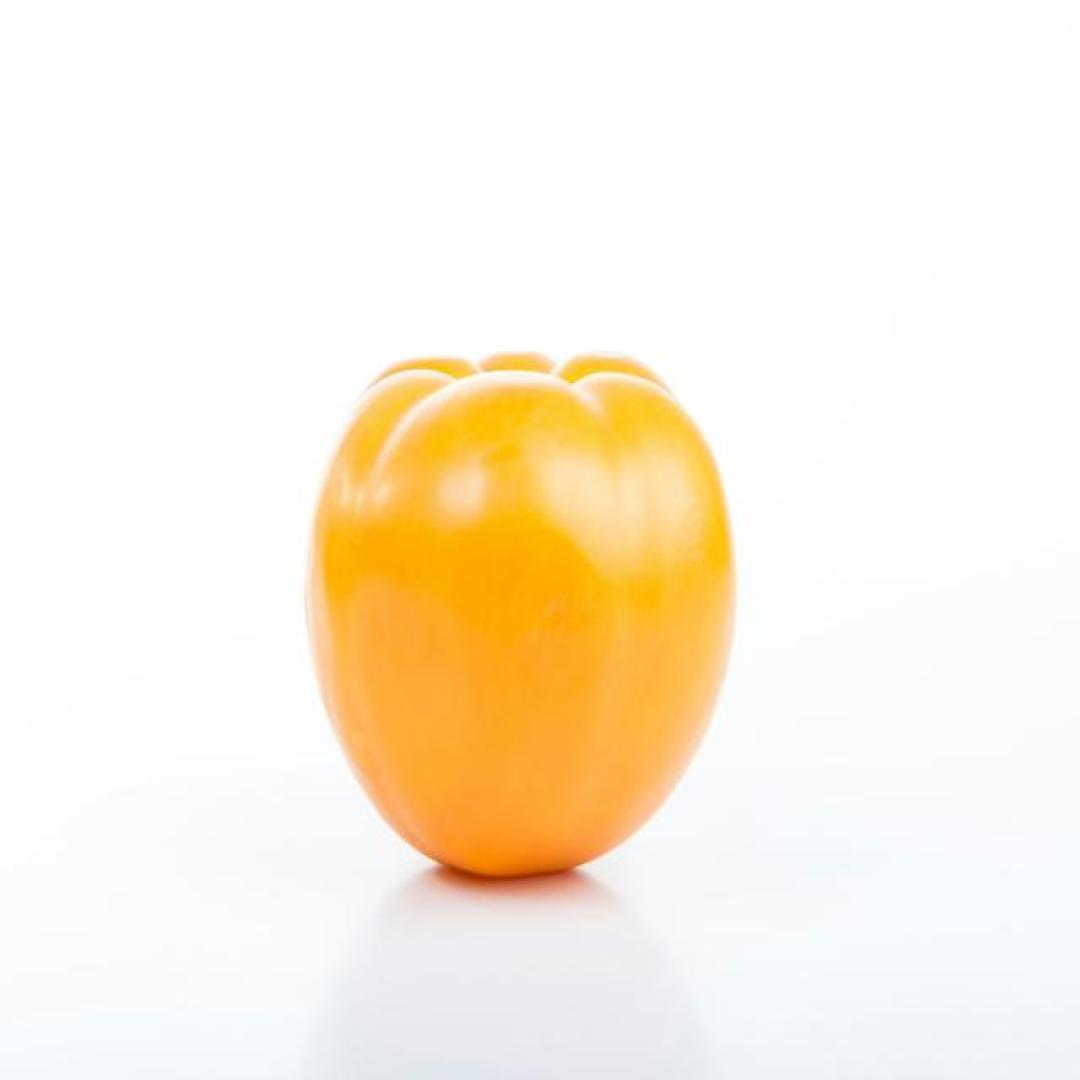setengah_matang: (302, 344, 738, 883)
